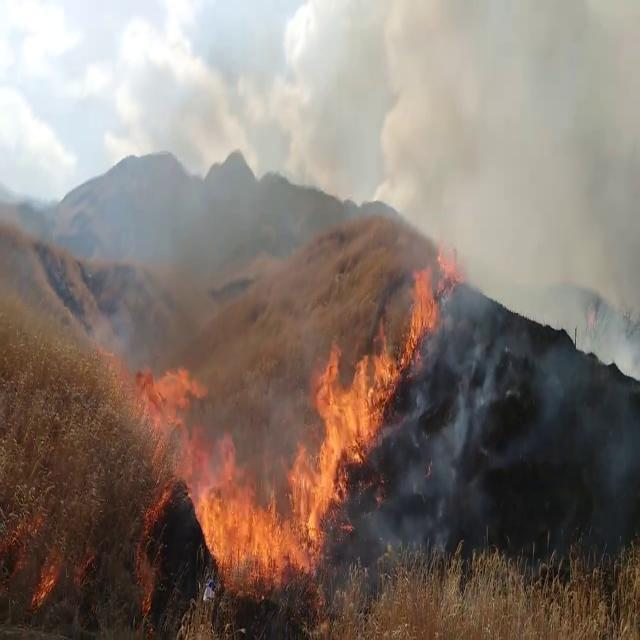Fire: (130, 356, 320, 594), (300, 315, 402, 523), (127, 352, 207, 444), (402, 234, 456, 366)
Smoke: (400, 0, 640, 473), (124, 0, 420, 268)
